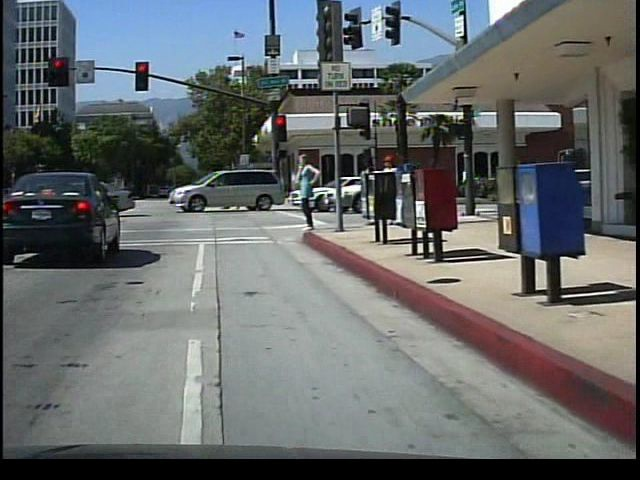person: (292, 147, 323, 235), (377, 149, 405, 227), (351, 149, 375, 218)
